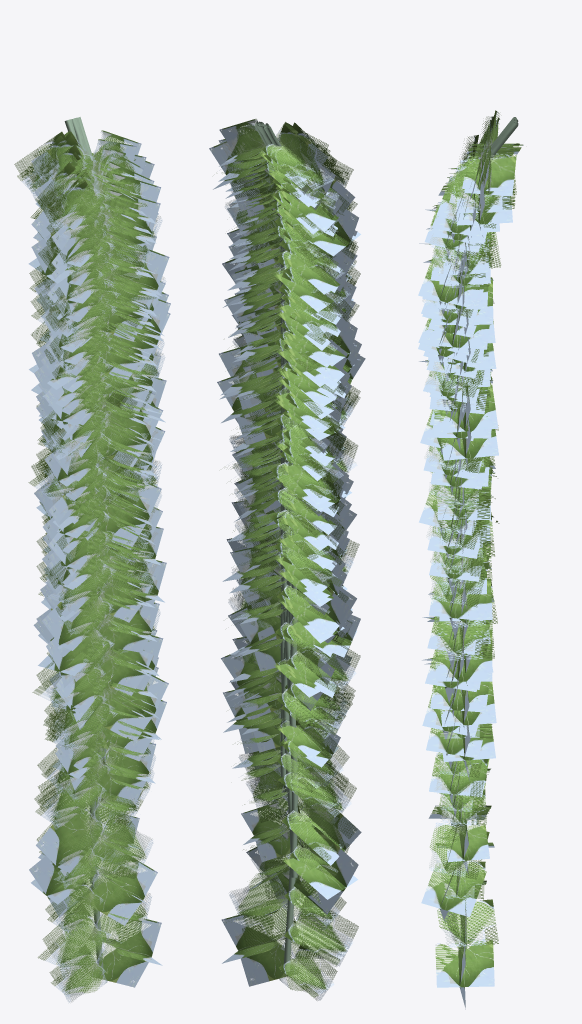
File: ivy.glb
3 views of the same model, side by side, from view 1: azimuth 30°, elevation 25°; view 2: azimuth 150°, elevation 25°; view 3: azimuth 270°, elevation 25° (orthographic). The views are drawn at different scales.
Visible parts, largest first — view 1: ivy_8, ivy_6, ivy_7, ivy_3, ivy_5, ivy_2, ivy_4, ivy_1; view 2: ivy_8, ivy_7, ivy_6, ivy_4, ivy_5, ivy_2, ivy_3, ivy_1; view 3: ivy_8, ivy_6, ivy_7, ivy_4, ivy_1, ivy_3, ivy_5, ivy_2.
Part boxes in pixels (left/top/right/bottom): ivy_8: left=28, top=118, right=166, bottom=1002; ivy_6: left=33, top=118, right=168, bottom=812; ivy_7: left=29, top=117, right=168, bottom=894; ivy_3: left=30, top=117, right=163, bottom=599; ivy_5: left=14, top=119, right=170, bottom=739; ivy_2: left=28, top=117, right=169, bottom=524; ivy_4: left=24, top=119, right=162, bottom=681; ivy_1: left=33, top=118, right=170, bottom=457; ivy_8: left=218, top=122, right=361, bottom=1000; ivy_7: left=223, top=121, right=359, bottom=899; ivy_6: left=221, top=122, right=352, bottom=800; ivy_4: left=217, top=123, right=358, bottom=677; ivy_5: left=219, top=122, right=360, bottom=728; ivy_2: left=209, top=121, right=365, bottom=516; ivy_3: left=225, top=121, right=360, bottom=568; ivy_1: left=218, top=119, right=356, bottom=419; ivy_8: left=421, top=120, right=517, bottom=1009; ivy_6: left=419, top=119, right=517, bottom=819; ivy_7: left=422, top=122, right=517, bottom=899; ivy_4: left=422, top=115, right=519, bottom=693; ivy_1: left=418, top=117, right=519, bottom=440; ivy_3: left=420, top=116, right=518, bottom=590; ivy_5: left=418, top=110, right=523, bottom=738; ivy_2: left=418, top=116, right=521, bottom=521.
Size of the model in its own units: 0.1537 by 1.02 by 0.1585.
Materials: 1 (1 with a texture image).
